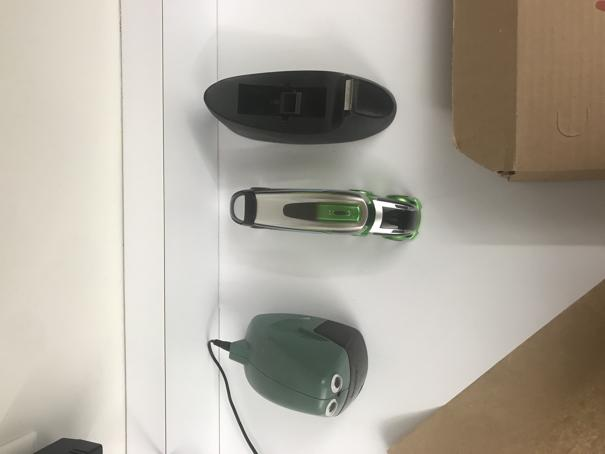Freewheel: (230, 186, 423, 242)
